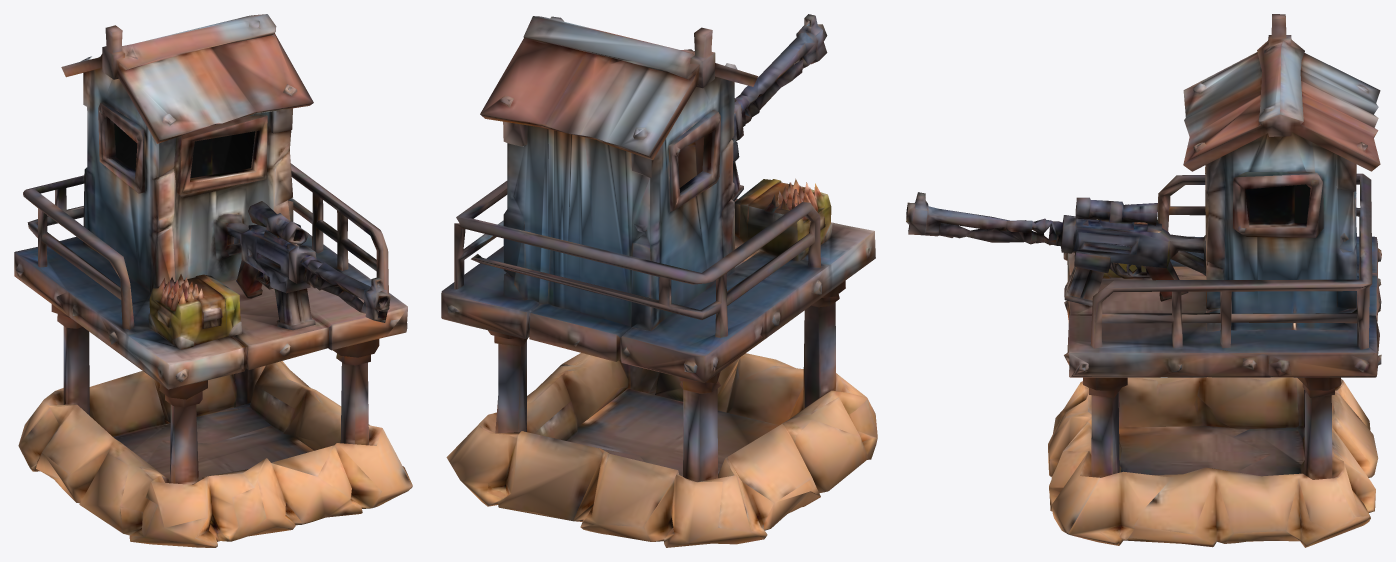
File: jiqiangpao-2.glb
The picture shows the model from 3 angles, left to right: view 1: azimuth 30°, elevation 25°; view 2: azimuth 150°, elevation 25°; view 3: azimuth 270°, elevation 25°; orthographic projection. The views are drawn at different scales.
Visible parts, largest first — view 1: node_0; view 2: node_0; view 3: node_0.
Boxes of the visible parts, x1,y1,x2,y2 form: node_0: (14, 14, 412, 547); node_0: (441, 14, 877, 547); node_0: (906, 14, 1381, 547).
Bounding box in the file's own units: 0.5716 × 0.8391 × 0.8364.
Materials: 1 (1 with a texture image).
